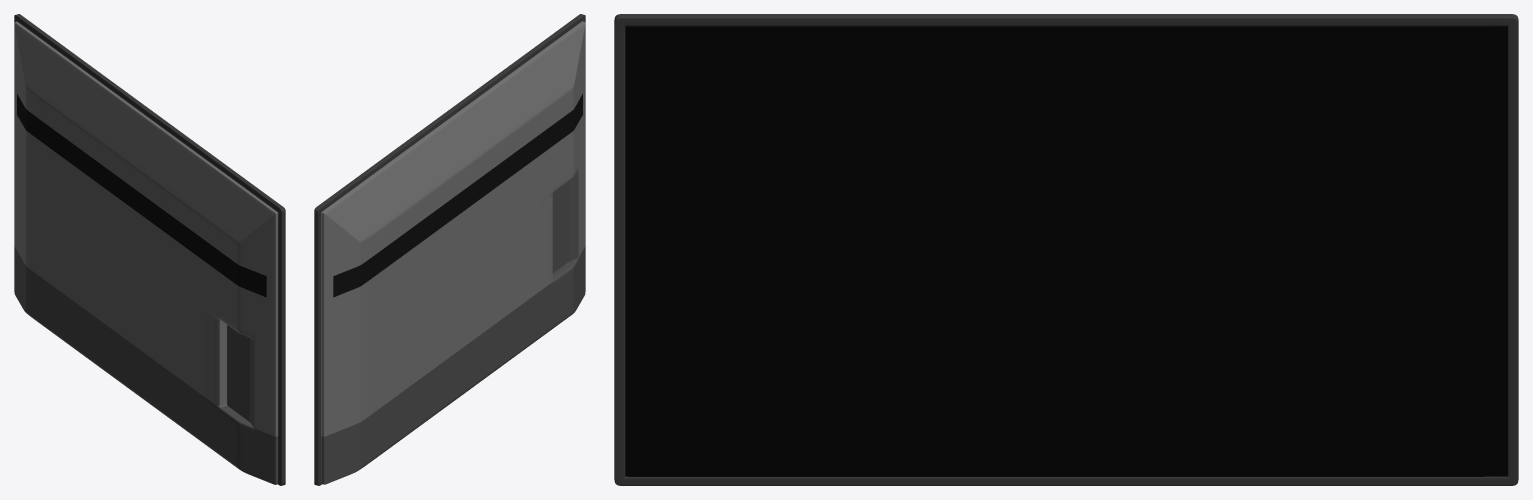
The picture shows the model from 3 angles, left to right: view 1: azimuth 30°, elevation 25°; view 2: azimuth 150°, elevation 25°; view 3: azimuth 270°, elevation 25°; orthographic projection. The views are drawn at different scales.
Parts seen in each view (by area): view 1: Plane; view 2: Plane; view 3: Plane.
Boxes of the visible parts, <box> form: Plane: <box>14,14,285,485</box>; Plane: <box>314,14,585,485</box>; Plane: <box>614,14,1518,485</box>.
Bounding box in the file's own units: 2.11 × 28.06 × 49.04.
Materials: 1 (1 with a texture image).
